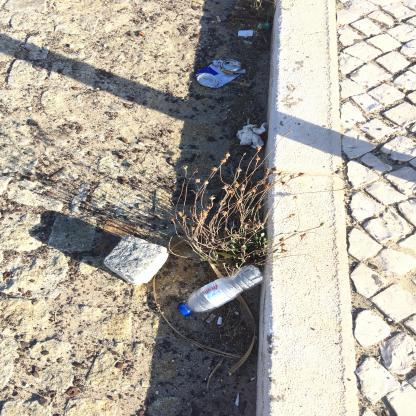metal: (196, 60, 244, 90)
plastik: (179, 266, 265, 318)
